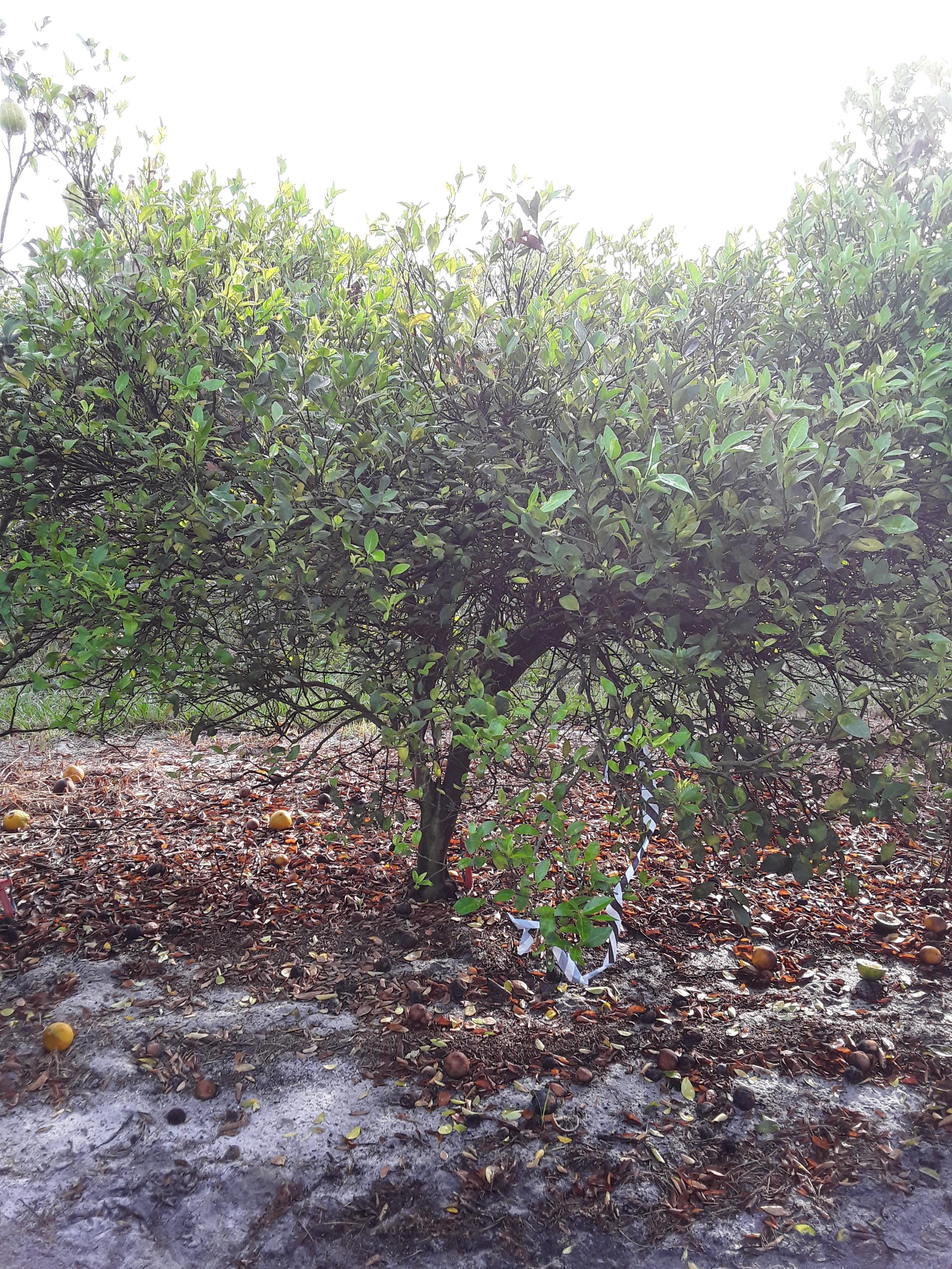fruit_on_ground: (1, 93, 30, 140)
fruit_on_tree: (38, 1019, 77, 1053), (749, 941, 779, 975), (855, 954, 887, 983), (1, 808, 33, 836), (872, 907, 903, 934), (915, 943, 943, 972), (920, 911, 947, 939), (443, 1051, 470, 1078), (59, 762, 87, 786), (267, 806, 293, 830), (406, 1000, 429, 1024), (273, 851, 291, 868), (243, 817, 262, 832)
